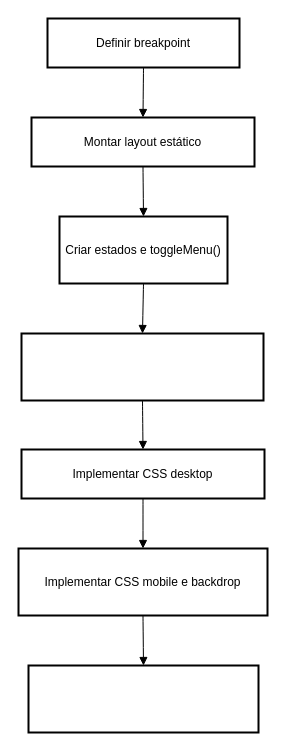
Image size: 285x750. Some labels were removed from this diagram. Each missing label, with the box of its shape:
Conectar emit, eventos e props: (20, 332, 264, 401)
Testar, validar acessibilidade e ajustar: (27, 664, 259, 733)
